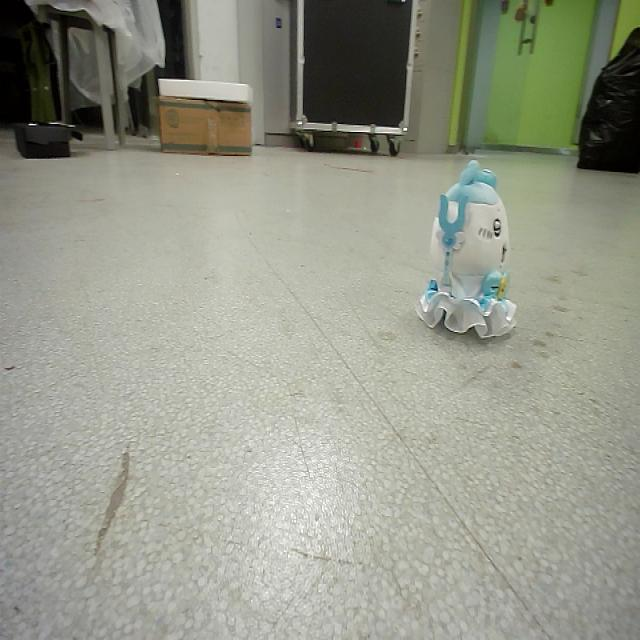xiaoba: (420, 161, 523, 346)
